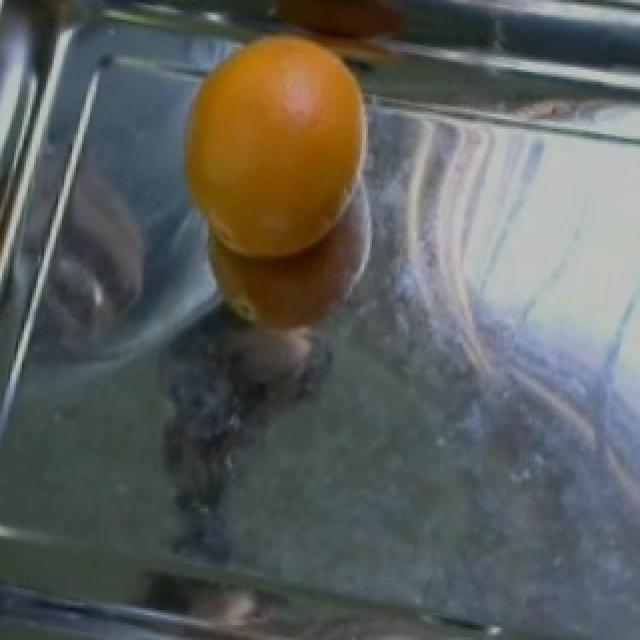Fruit: (150, 32, 382, 286)
